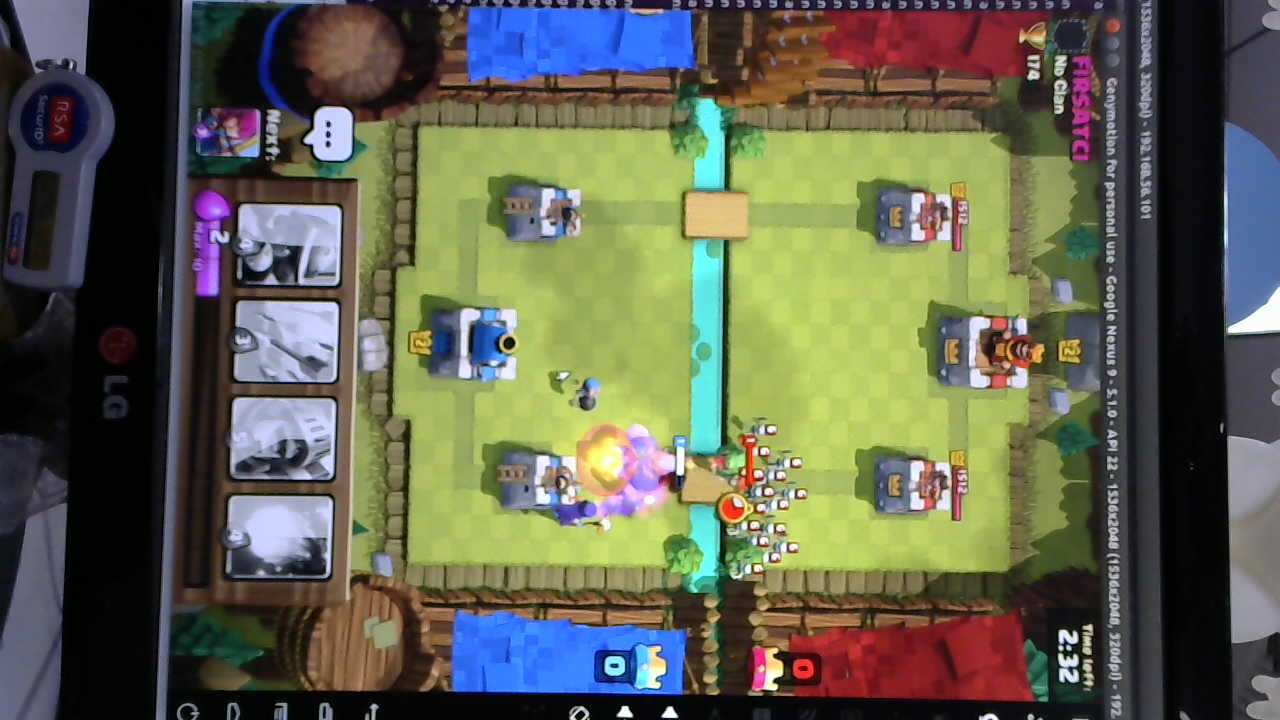arena: (492, 447, 579, 513), (506, 178, 588, 244)
bomb: (571, 373, 604, 415)
dragon: (703, 441, 754, 474)
earena: (871, 456, 957, 517), (873, 185, 953, 248)
eking: (940, 312, 1042, 393)
giant: (623, 418, 675, 502)
king: (431, 302, 524, 387)
skeletonarmy: (744, 412, 811, 581)
witch: (549, 496, 615, 529)
